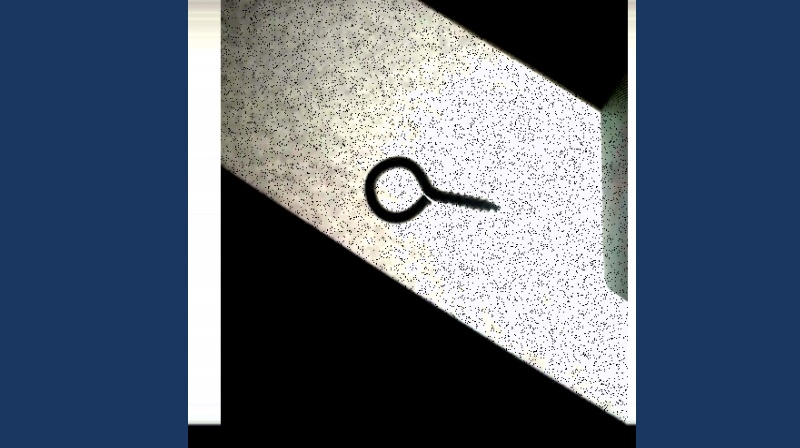O001: (362, 151, 503, 227)
